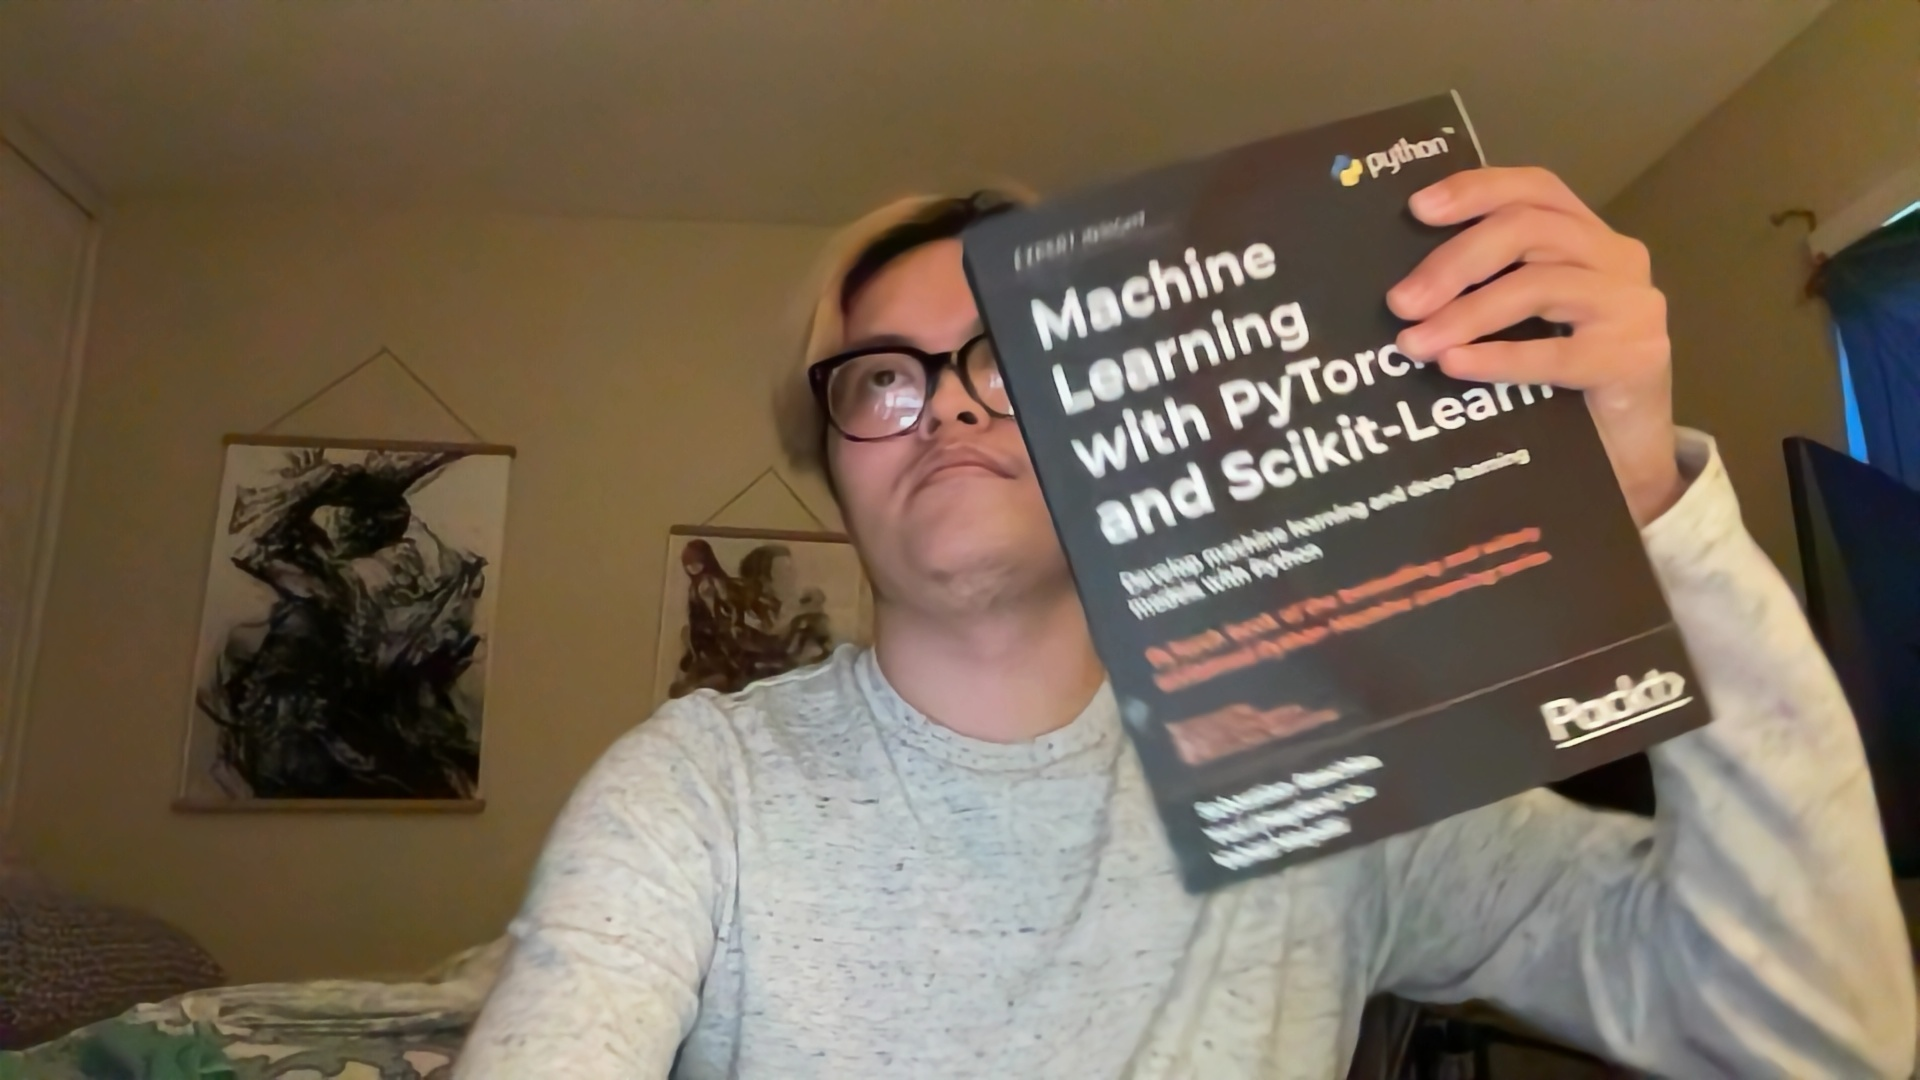book: (960, 84, 1722, 901)
